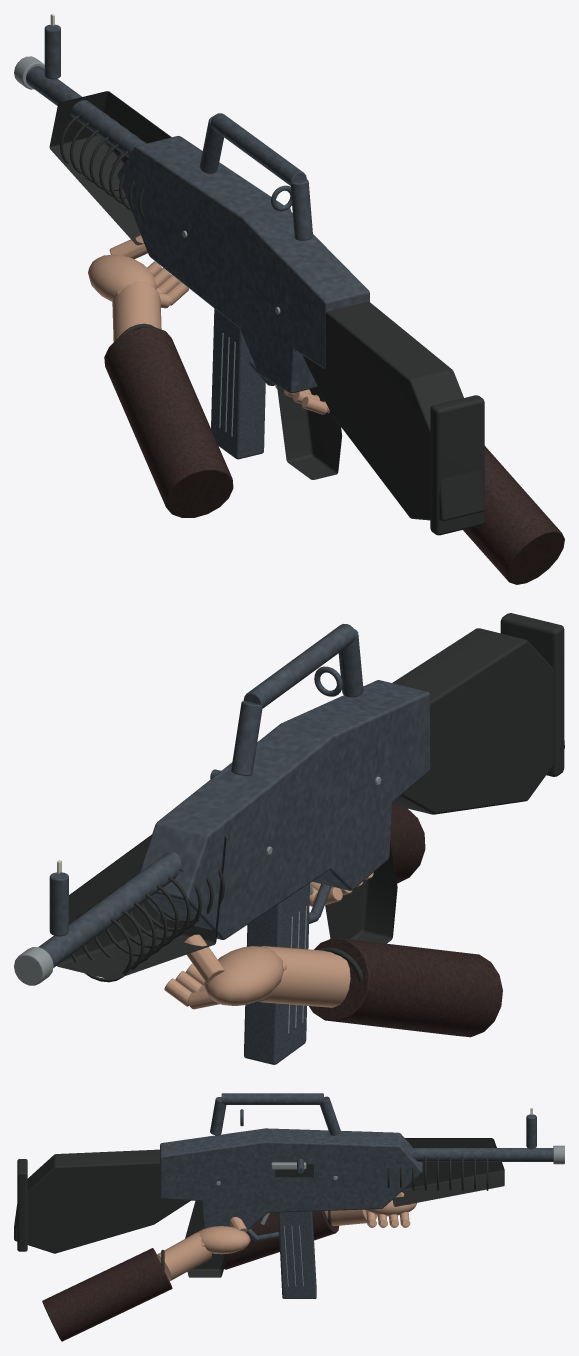
File: car15.glb
3 renders of one model, top to bottom at view 1: azimuth 30°, elevation 25°; view 2: azimuth 150°, elevation 25°; view 3: azimuth 270°, elevation 25°, orthographic. The views are drawn at different scales.
Parts seen in each view (by area): view 1: car15__BODY, car15__HAND_L, car15__HAND_R, car15__MAGAZINE; view 2: car15__BODY, car15__HAND_L, car15__MAGAZINE, car15__HAND_R; view 3: car15__BODY, car15__HAND_R, car15__HAND_L, car15__MAGAZINE, car15__BOLT.
Part boxes in pixels (left/top/right/bottom): car15__BODY: left=14, top=14, right=485, bottom=535; car15__HAND_L: left=88, top=235, right=233, bottom=517; car15__HAND_R: left=275, top=384, right=564, bottom=584; car15__MAGAZINE: left=211, top=308, right=265, bottom=459; car15__BODY: left=14, top=613, right=564, bottom=985; car15__HAND_L: left=164, top=934, right=502, bottom=1037; car15__MAGAZINE: left=244, top=883, right=309, bottom=1064; car15__HAND_R: left=309, top=805, right=425, bottom=906; car15__BODY: left=14, top=1093, right=564, bottom=1277; car15__HAND_R: left=42, top=1217, right=250, bottom=1341; car15__HAND_L: left=224, top=1192, right=416, bottom=1269; car15__MAGAZINE: left=278, top=1211, right=316, bottom=1298; car15__BOLT: left=271, top=1159, right=306, bottom=1173.
Size of the model in its own units: 0.3294 by 0.4051 by 0.9416.
6 materials, 2 textured.
